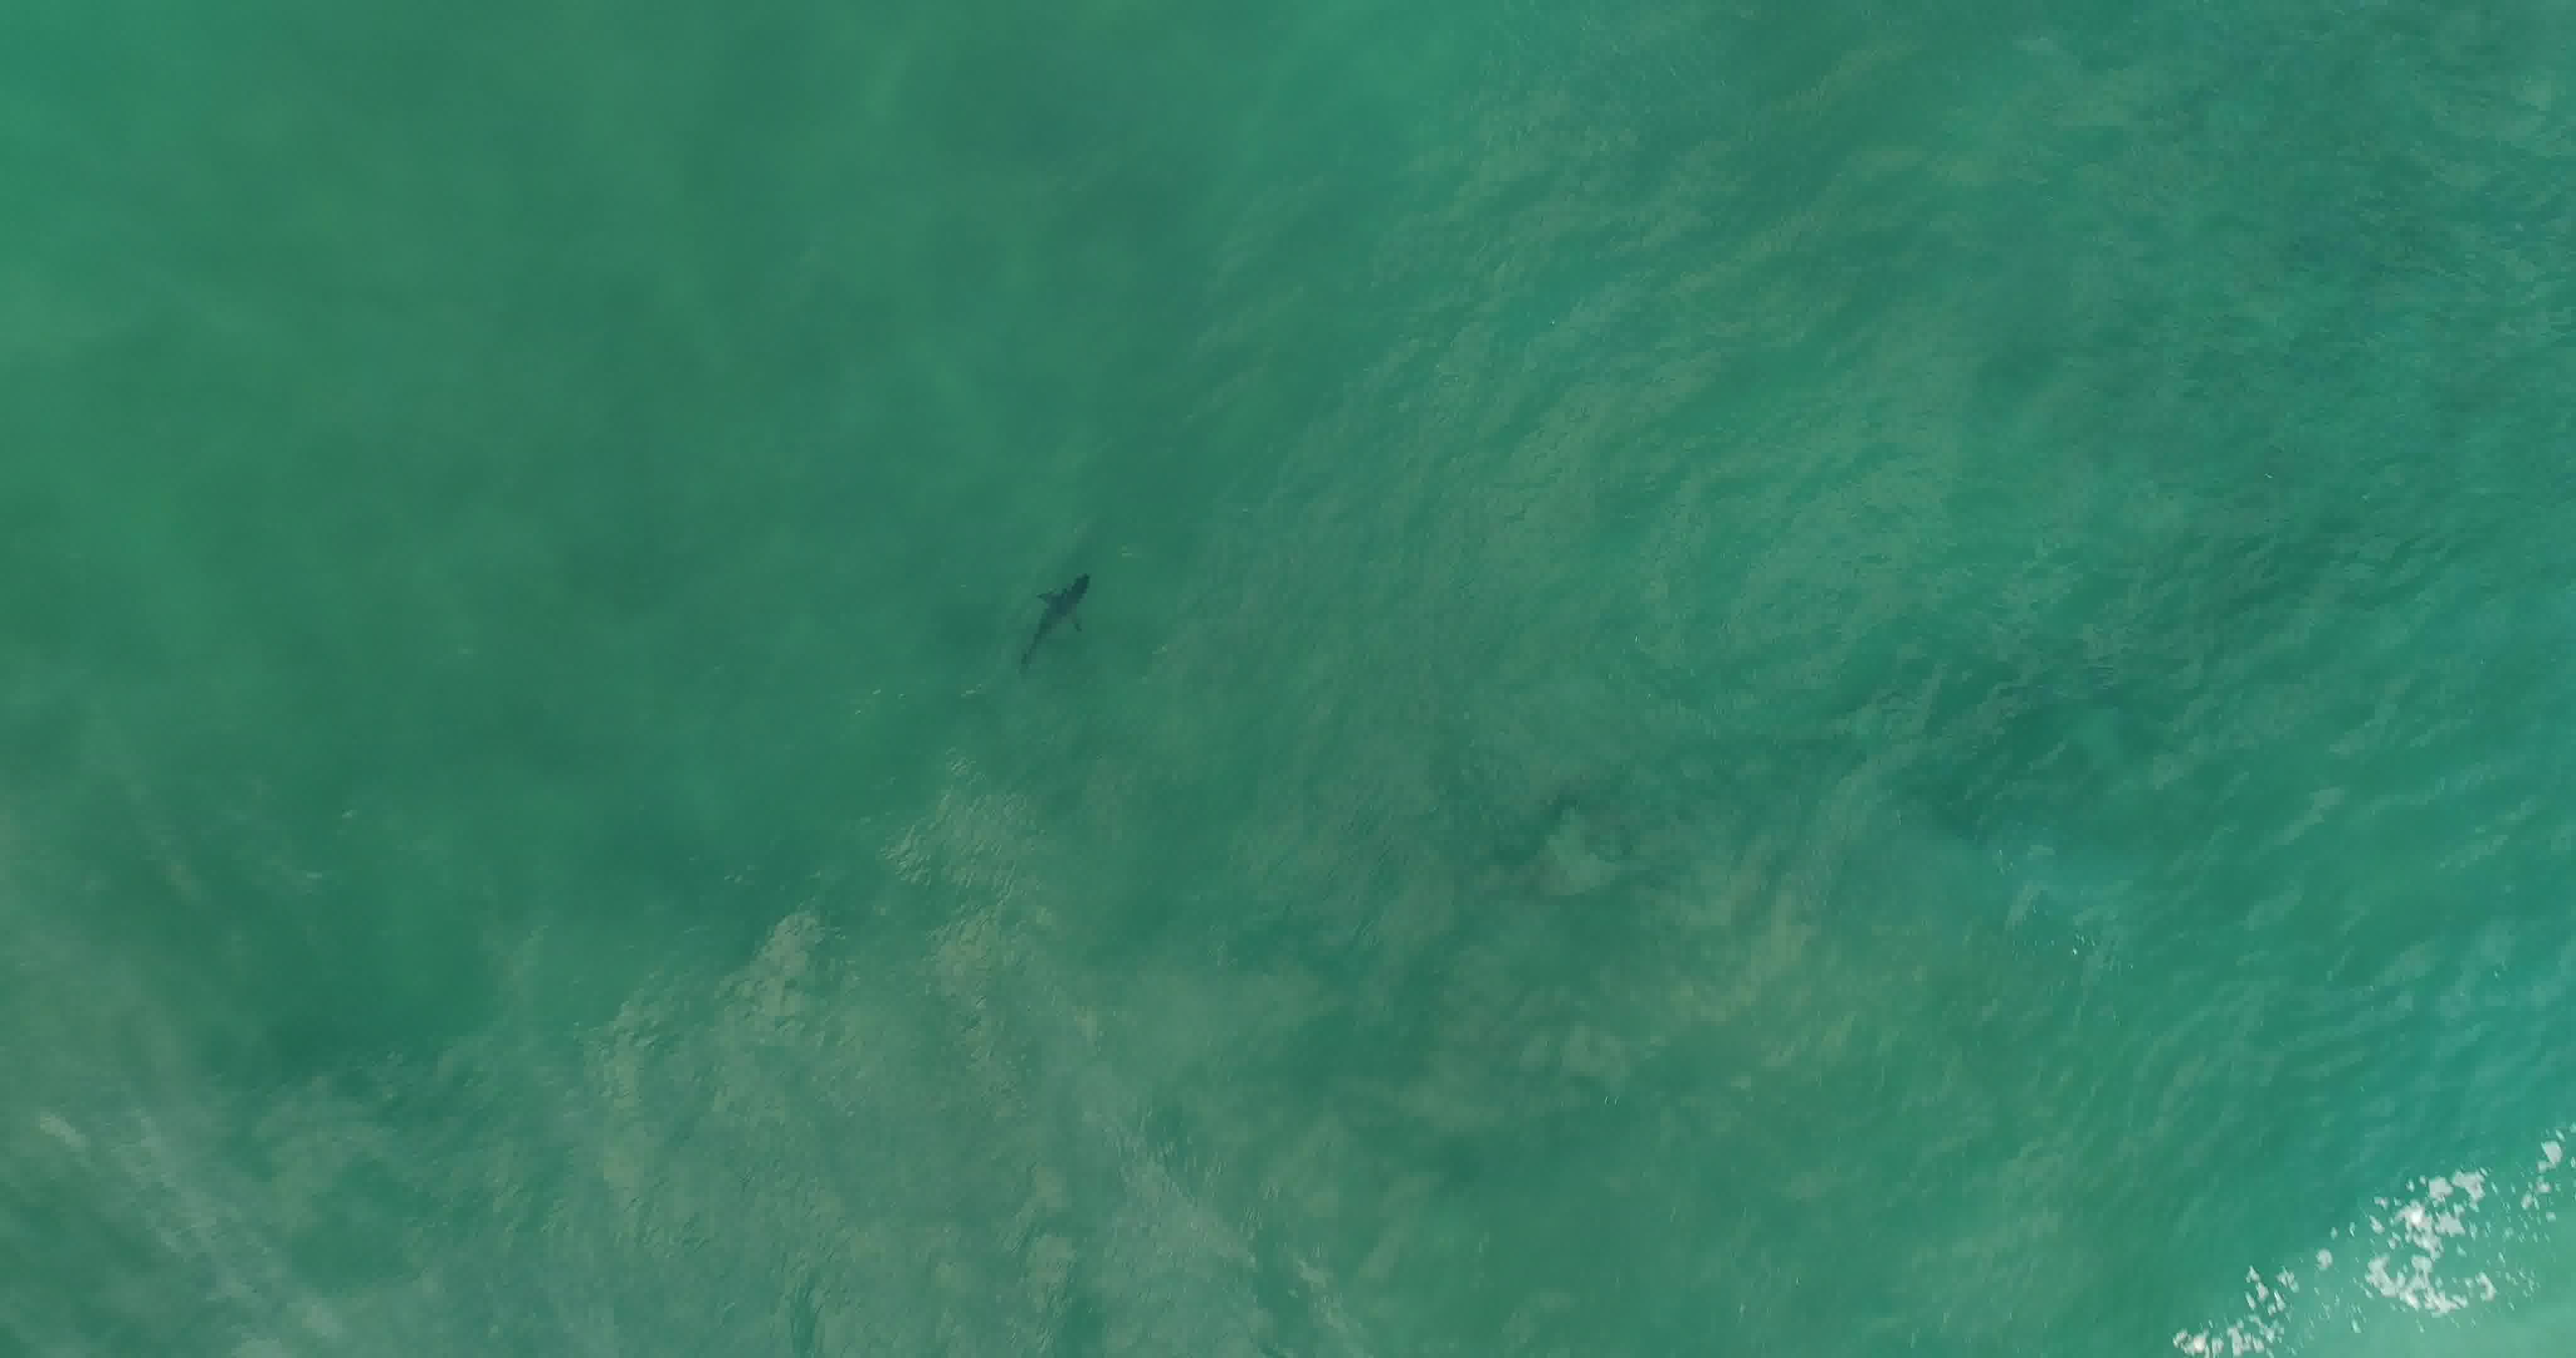shark: (1012, 567, 1095, 678)
